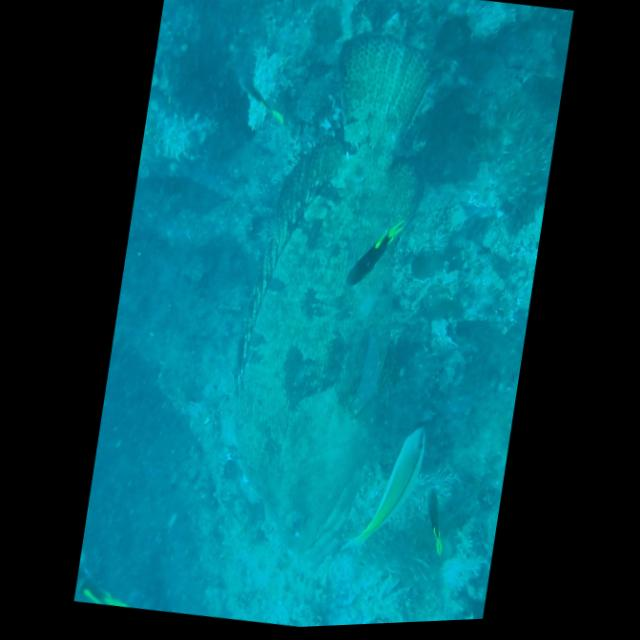Groupers: (196, 15, 455, 575)
